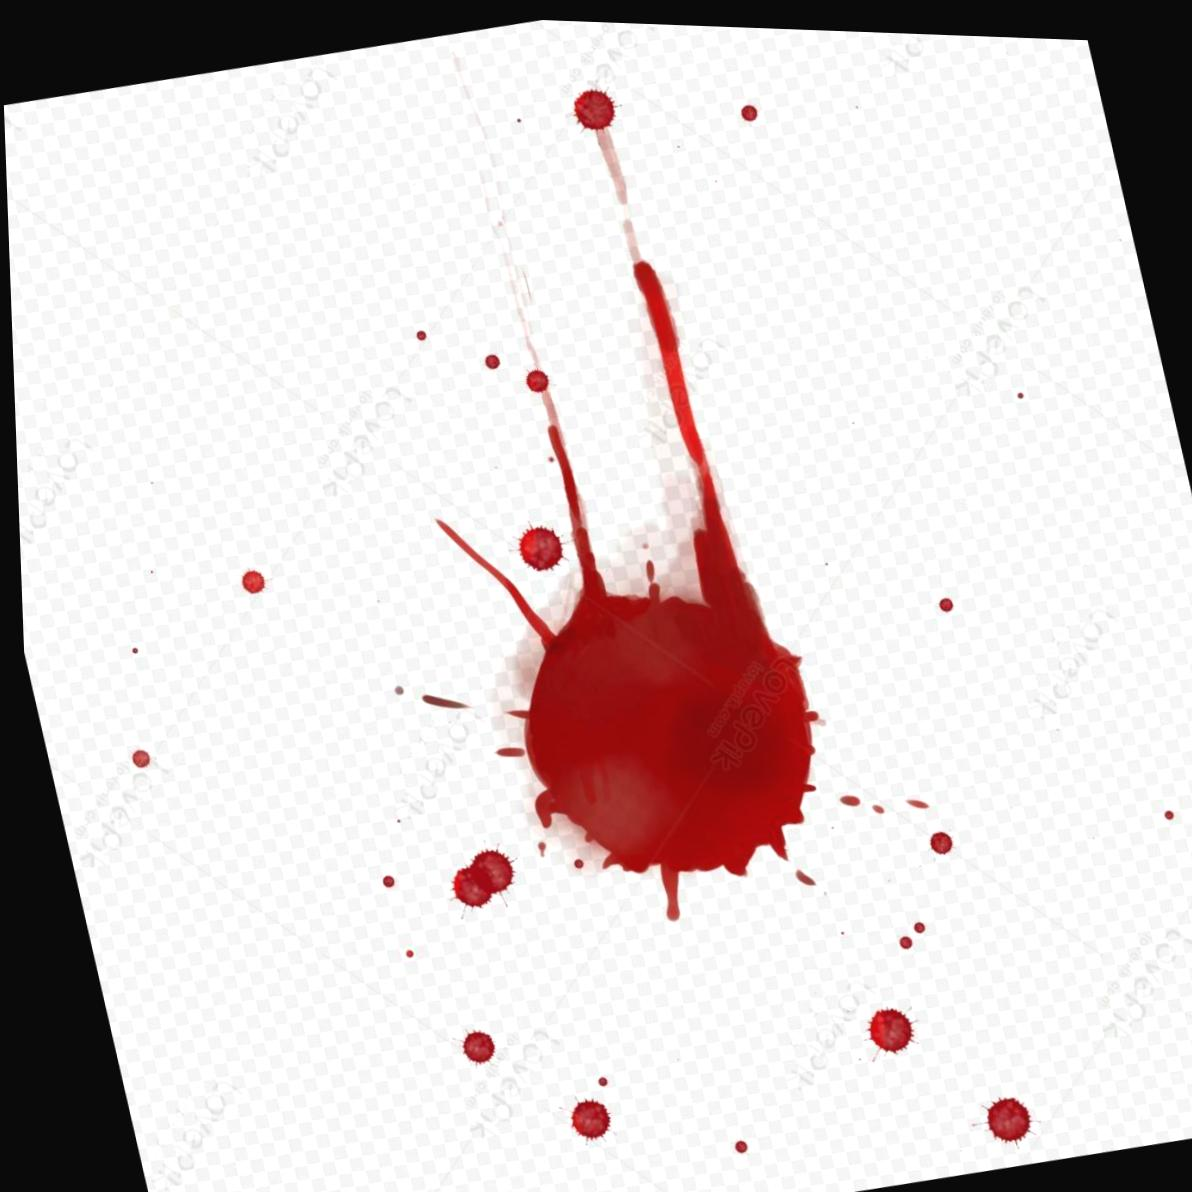Fire: (430, 255, 821, 917), (443, 845, 510, 905), (859, 1000, 907, 1047), (977, 1089, 1024, 1137), (513, 522, 559, 568), (572, 84, 617, 126), (561, 1095, 603, 1136), (453, 1027, 487, 1062), (922, 824, 947, 848)
